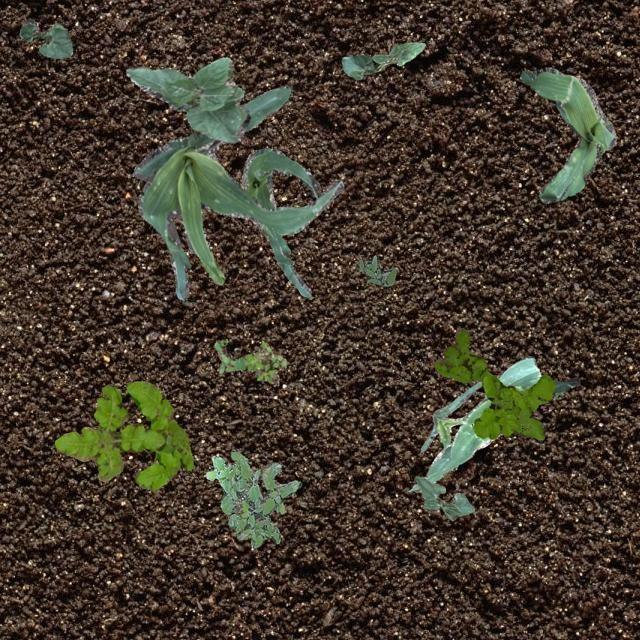crop: (130, 84, 342, 300), (408, 356, 578, 492), (518, 66, 616, 202), (240, 146, 320, 298), (124, 56, 250, 142), (419, 380, 482, 450), (340, 42, 424, 78), (414, 474, 474, 520), (18, 18, 72, 58)
weed: (54, 380, 192, 490), (434, 328, 554, 440), (204, 448, 300, 546), (214, 340, 286, 382), (356, 254, 396, 286)
